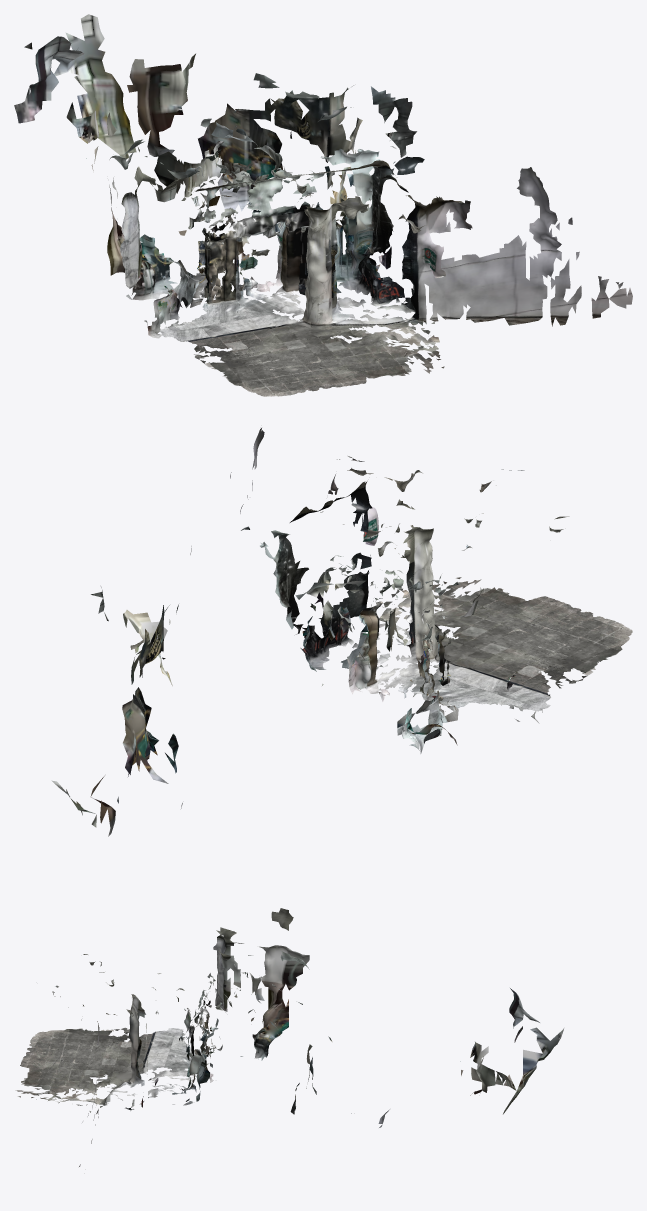
File: 147432-igdmasuk-tex.glb
3 renders of one model, top to bottom at view 1: azimuth 30°, elevation 25°; view 2: azimuth 150°, elevation 25°; view 3: azimuth 270°, elevation 25°, orthographic. The views are drawn at different scales.
Parts seen in each view (by area): view 1: Node; view 2: Node; view 3: Node.
Part boxes in pixels (bbox=[...]): Node: bbox=[14, 14, 632, 396]; Node: bbox=[51, 428, 632, 836]; Node: bbox=[15, 908, 563, 1166].
Size of the model in its own units: 15.78 by 7.06 by 26.46.
8 materials, 8 textured.
